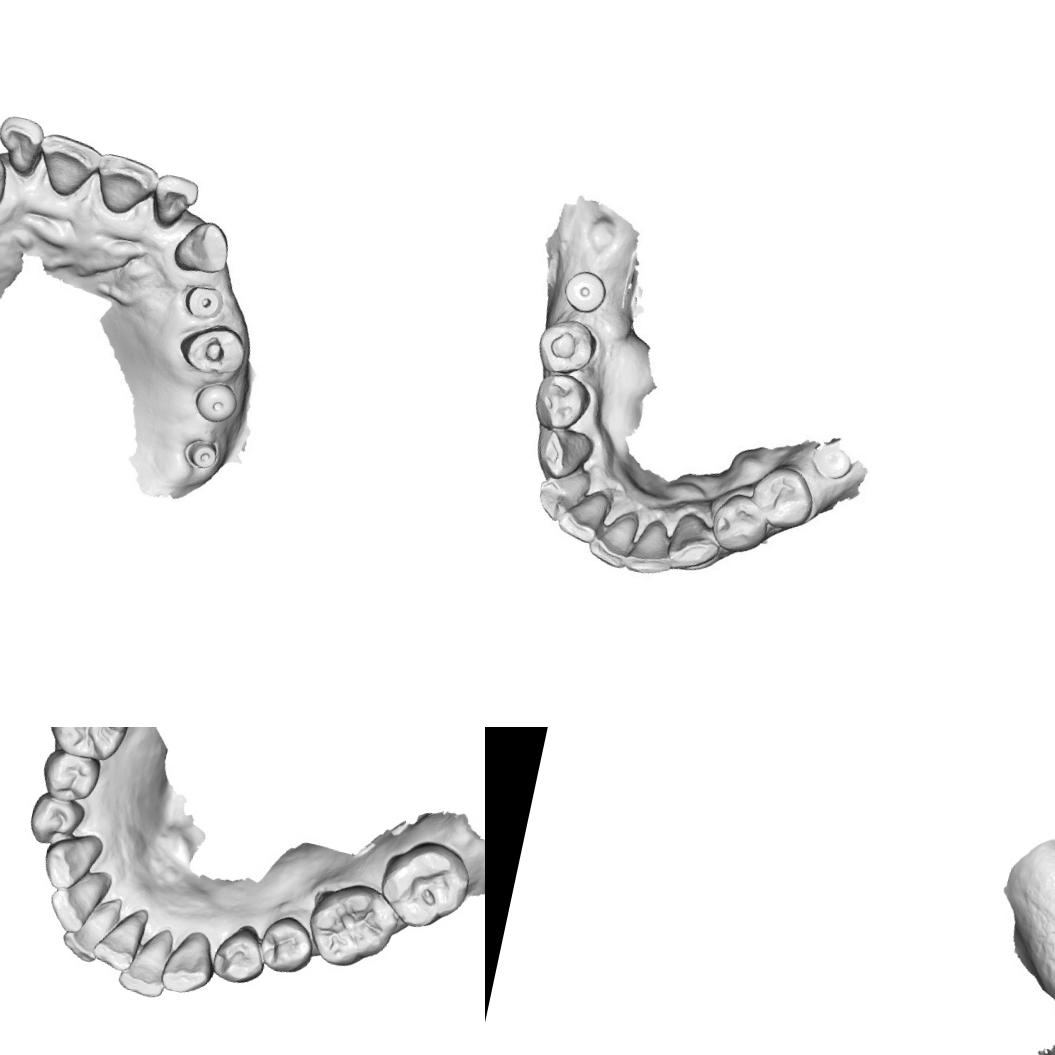canine: (168, 214, 236, 286), (157, 924, 221, 1000), (39, 825, 104, 896), (531, 425, 596, 486), (664, 509, 724, 572)
implant: (560, 266, 610, 317), (191, 376, 240, 427), (181, 280, 226, 326), (182, 432, 223, 478), (809, 442, 854, 482)
incisor: (32, 128, 106, 202), (58, 888, 125, 968), (89, 148, 162, 221), (44, 868, 109, 939), (91, 902, 152, 976), (118, 926, 178, 1000), (532, 463, 592, 527), (585, 504, 642, 570), (623, 514, 679, 580), (0, 109, 50, 178), (555, 486, 612, 546), (148, 168, 201, 232)
molar: (370, 831, 478, 937), (300, 874, 402, 977), (36, 727, 139, 768)
premolar: (745, 460, 820, 534), (706, 489, 774, 559), (532, 313, 600, 381), (176, 319, 250, 381), (206, 920, 269, 990), (529, 369, 595, 435), (36, 746, 103, 810), (255, 912, 318, 979), (24, 790, 87, 853)
